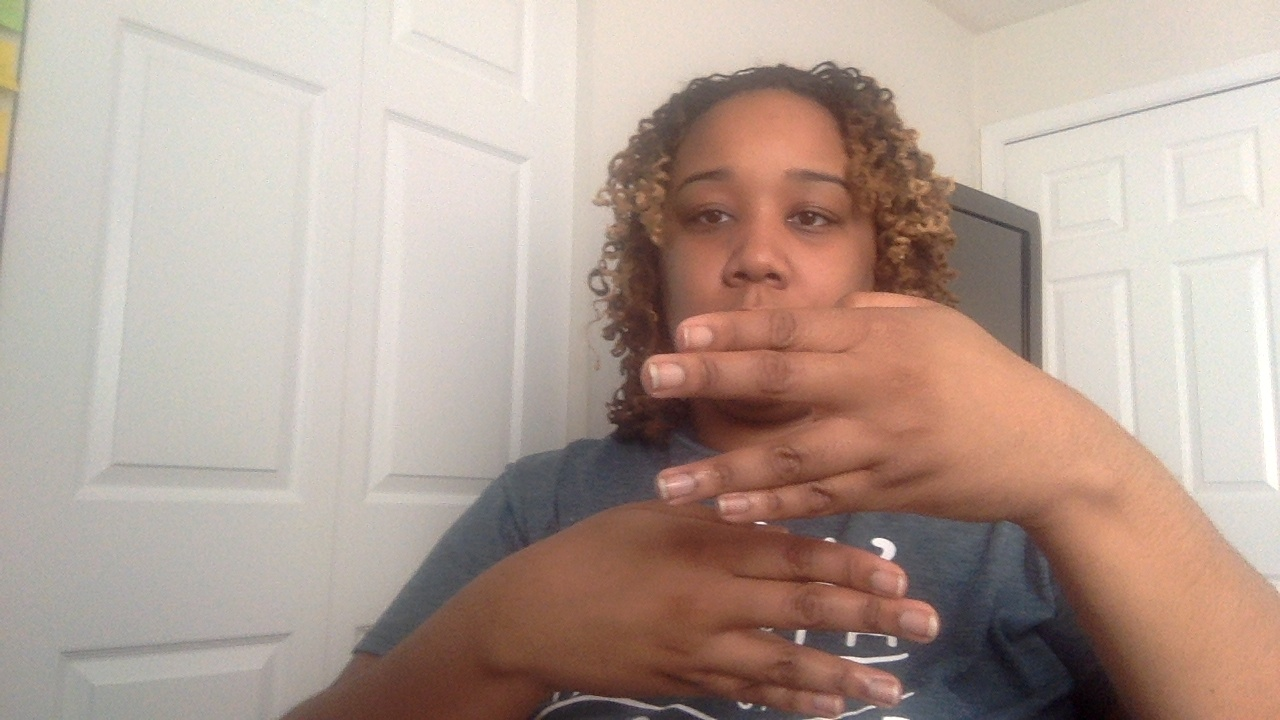world: (342, 290, 1042, 716)
